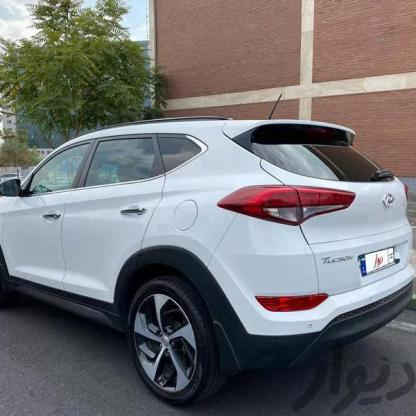Car: (0, 118, 416, 406)
